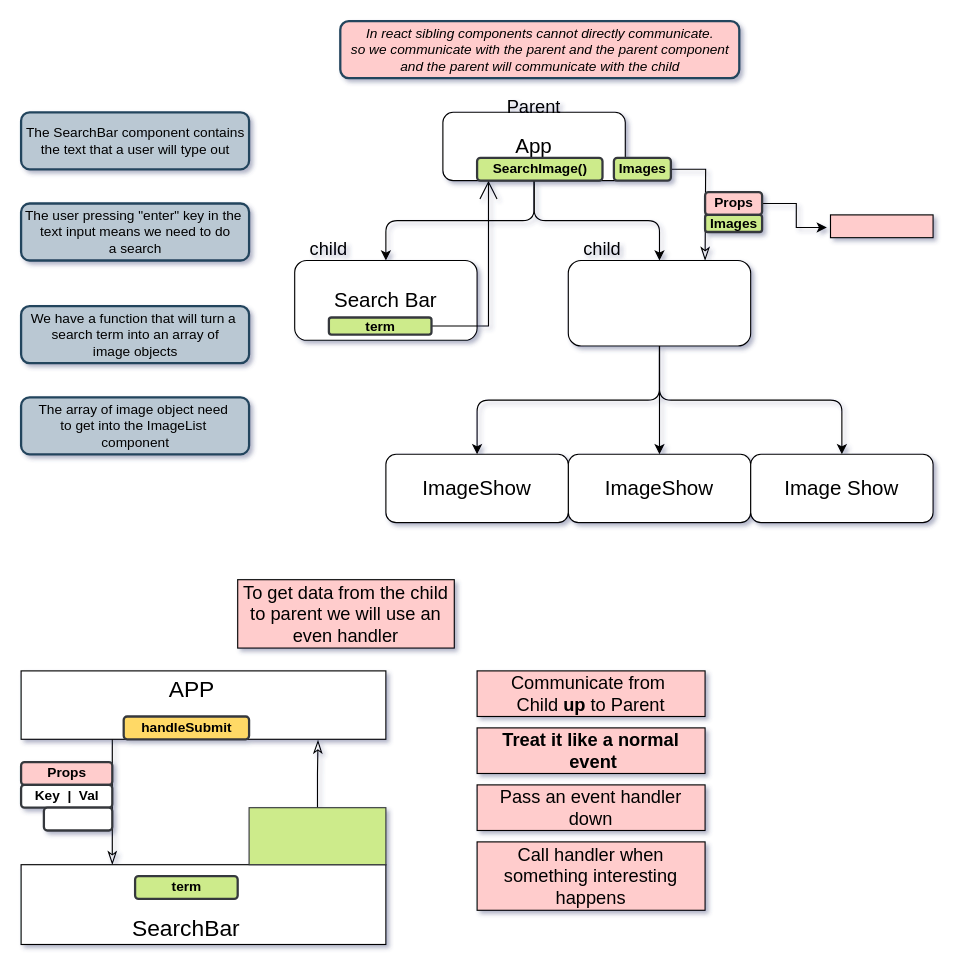
Some shapes in this 960 by 971 pixel diagram are drawn without their labels. The centre of each missing label's shape, as x and y in pixels:
ImageList: the point at 659,302
onSubmit: the point at 77,818
props will move data down from the parent: the point at 881,226
User clicks button Call onSubmit with the curent term: the point at 317,836
